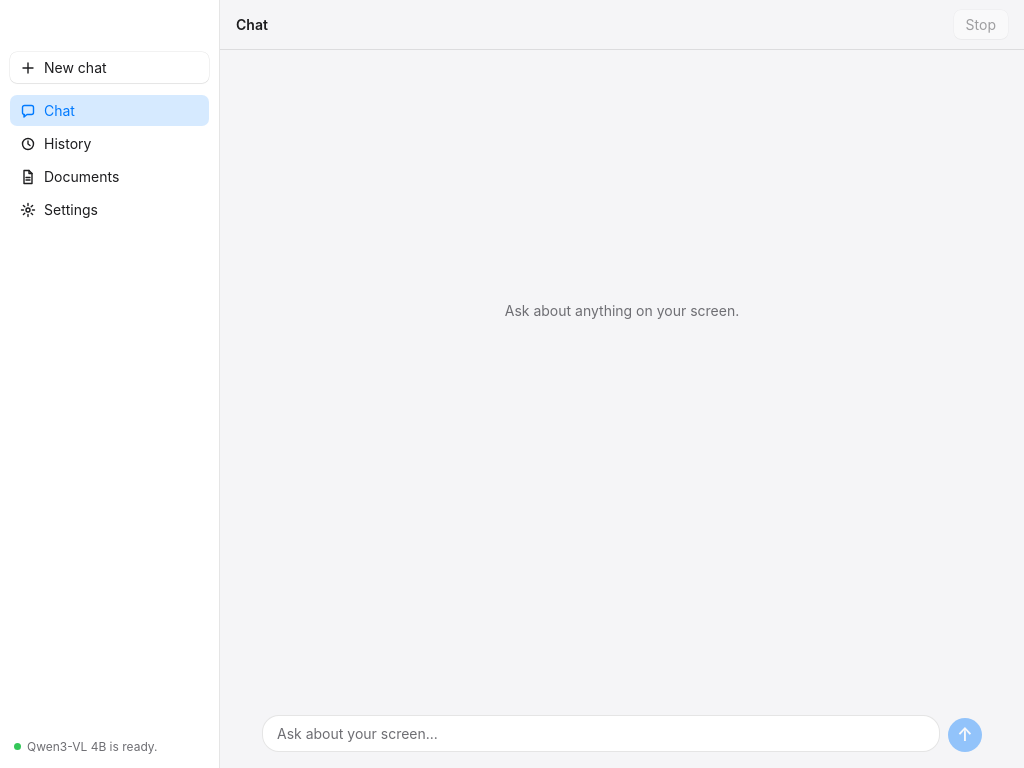
turns in Chat survive a switch to History and back
In the text box named "Question": (601, 734) [262,715,940,752], type "What is the capital of France?"
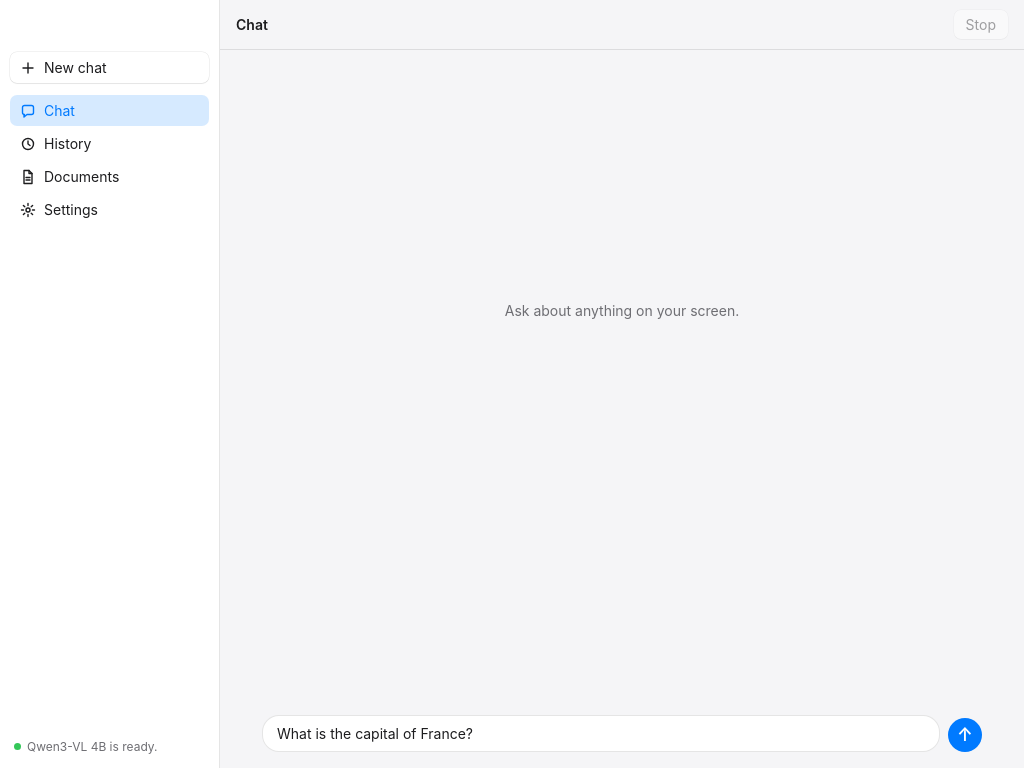
Click the button named "Ask": click(965, 735) [948,718,982,752]
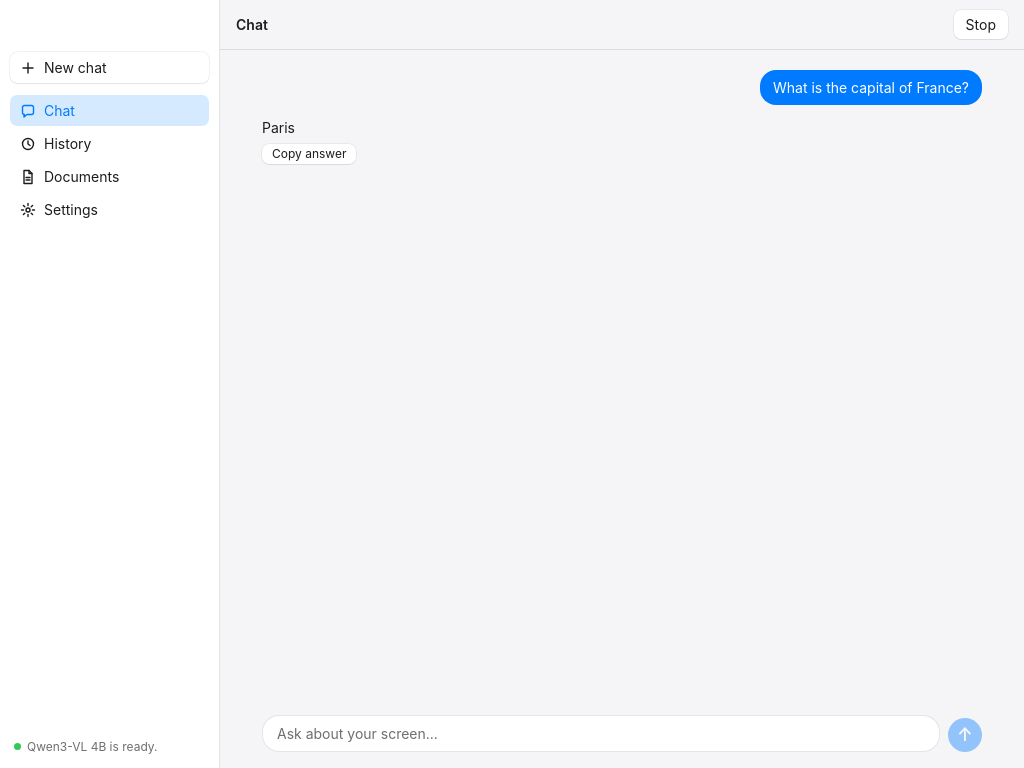
Check: the text "Paris" is shown, box [262,119,295,136]
Click the button "History": click(110, 144) [10,128,209,159]
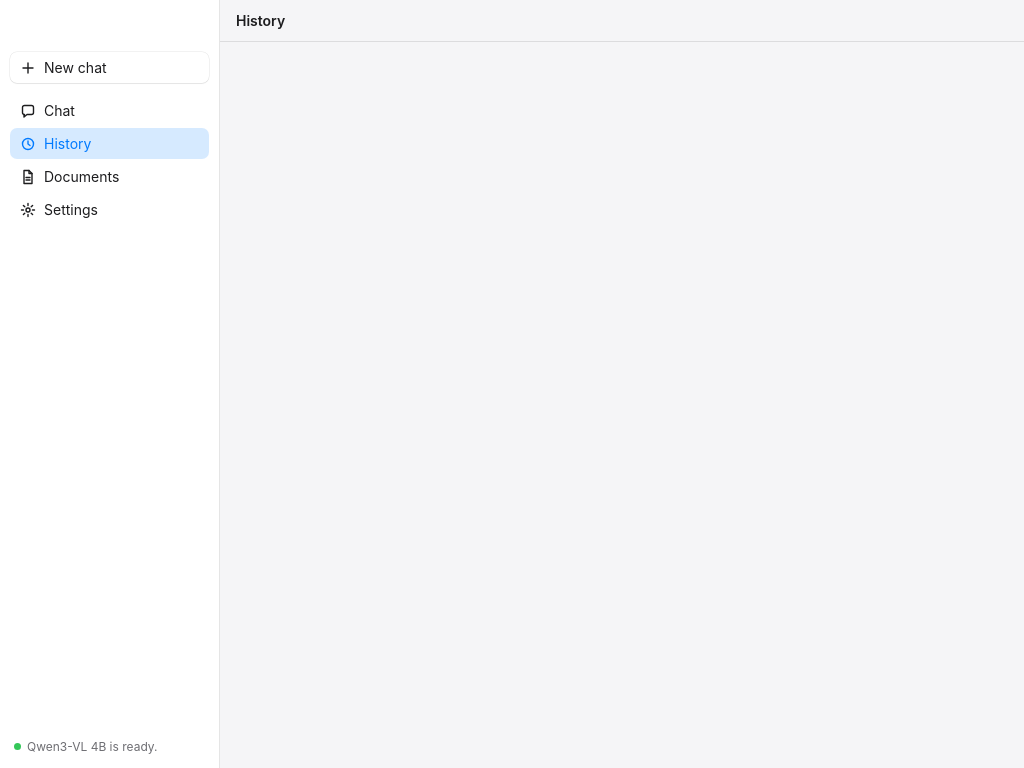
Click the button "Chat": click(110, 110) [10,95,209,126]
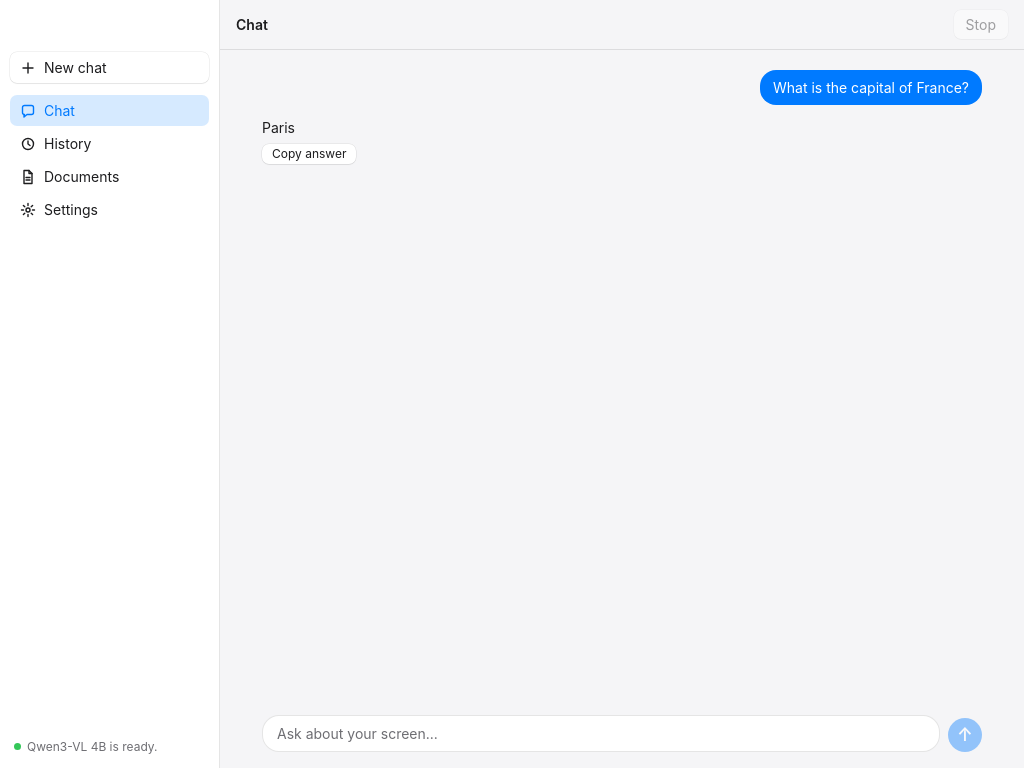
Check: the element showing "What is the capital of France? Paris Copy answer" is shown, box [262,70,982,164]
